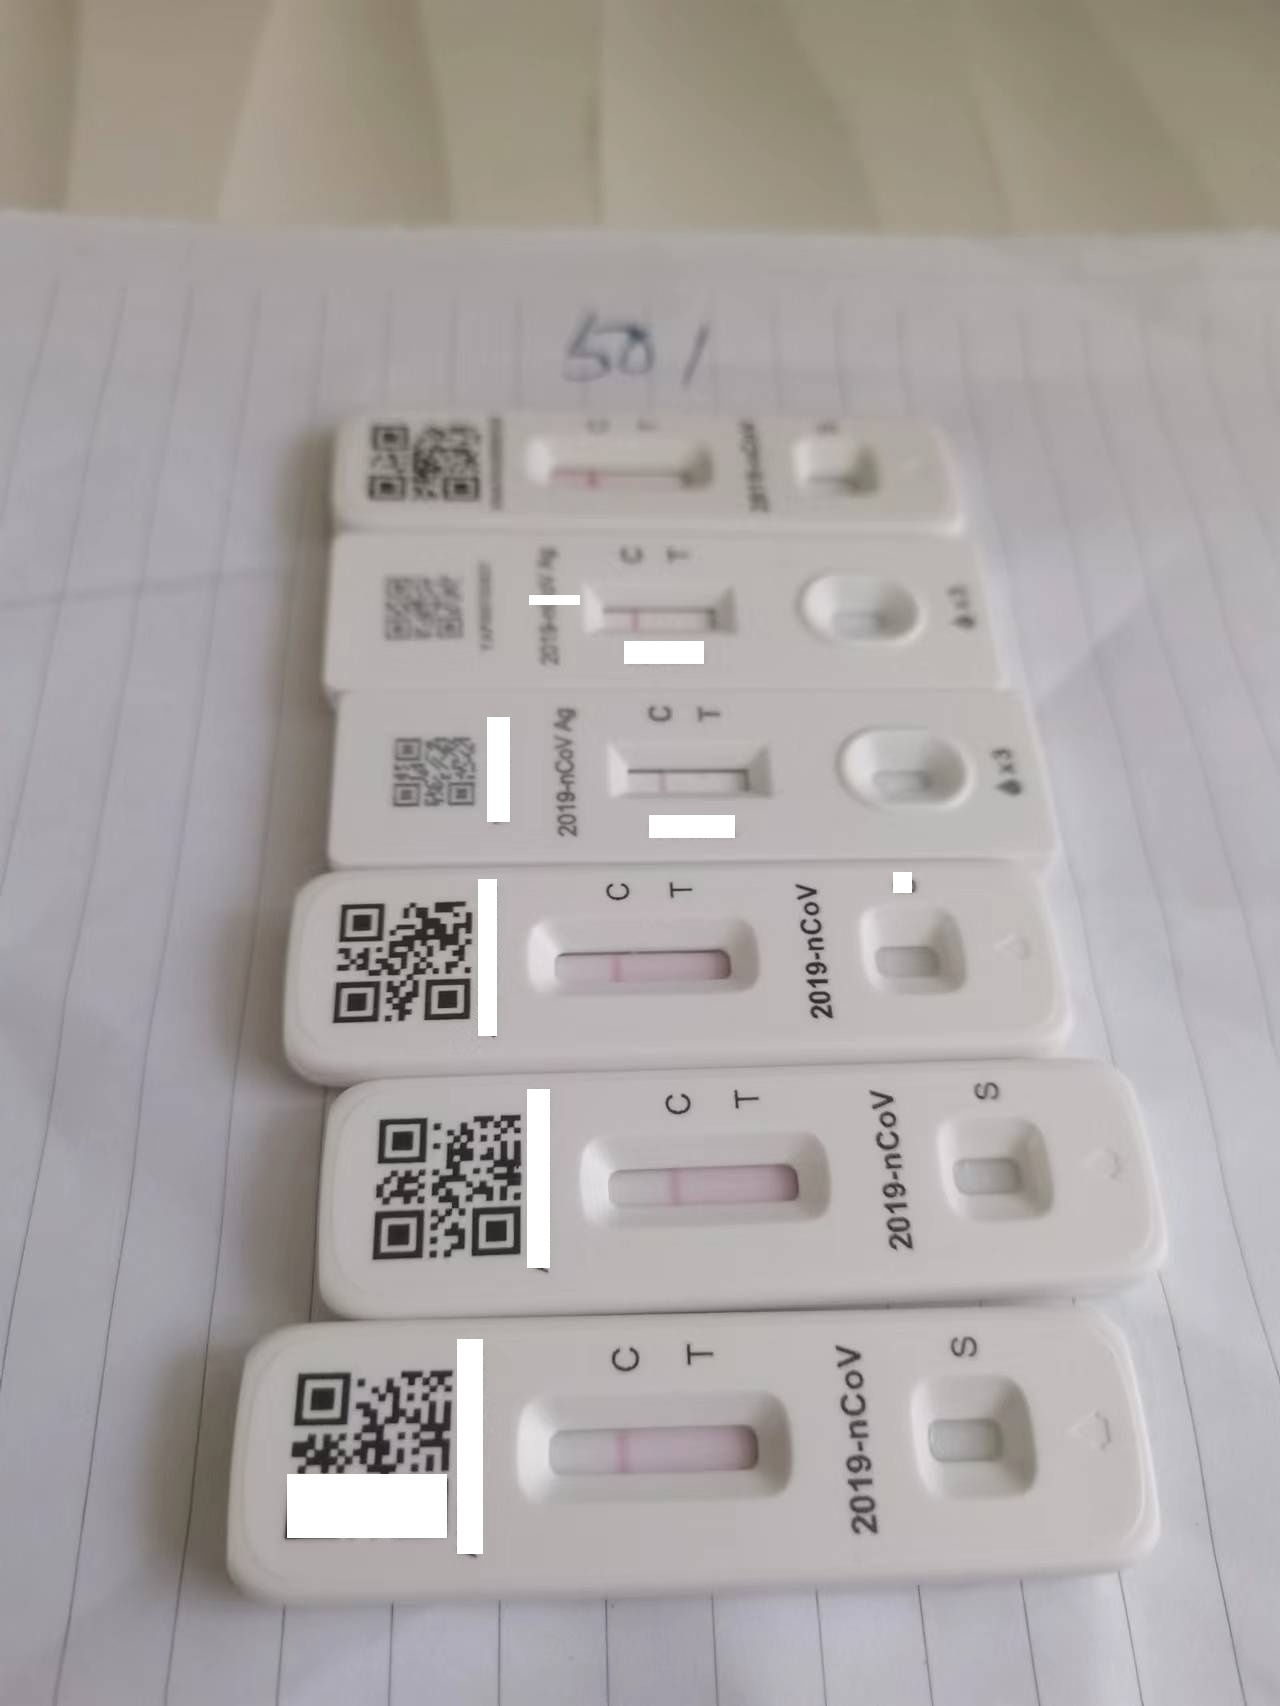negative: (514, 1391, 797, 1502), (577, 1135, 835, 1229), (528, 917, 765, 999)
